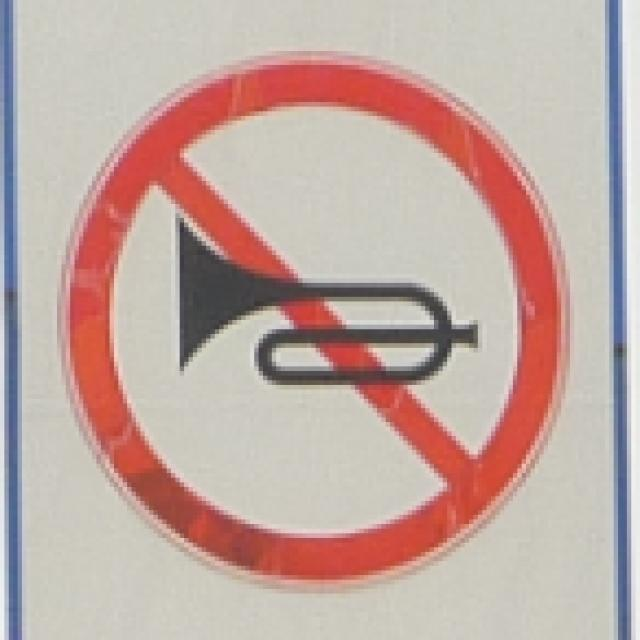No Horn: (59, 32, 554, 598)
